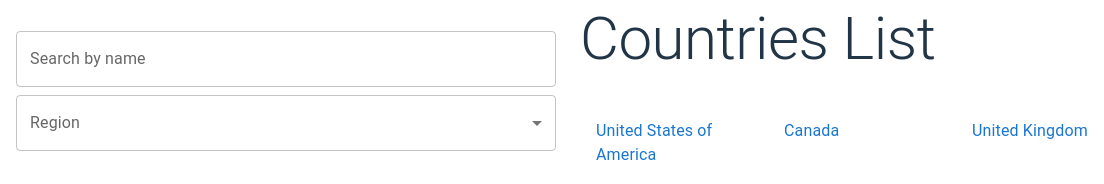
Test: CountryList test: › should filter countries based on search term
The image size is (1104, 184).
Type "United" into the field labelled "Search by name" at (286, 59), box [16, 31, 556, 87]
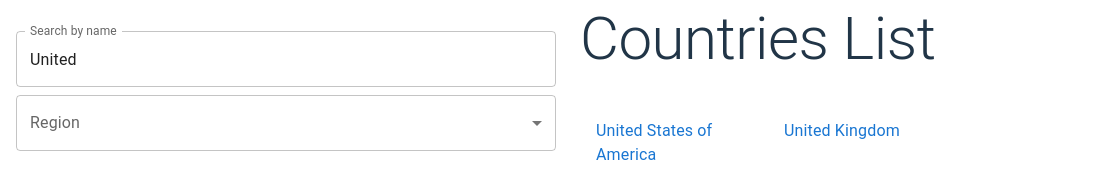
Expected: the text "United States of America" is shown, [596, 119, 728, 167]
Expected: the link "Canada" is gone
